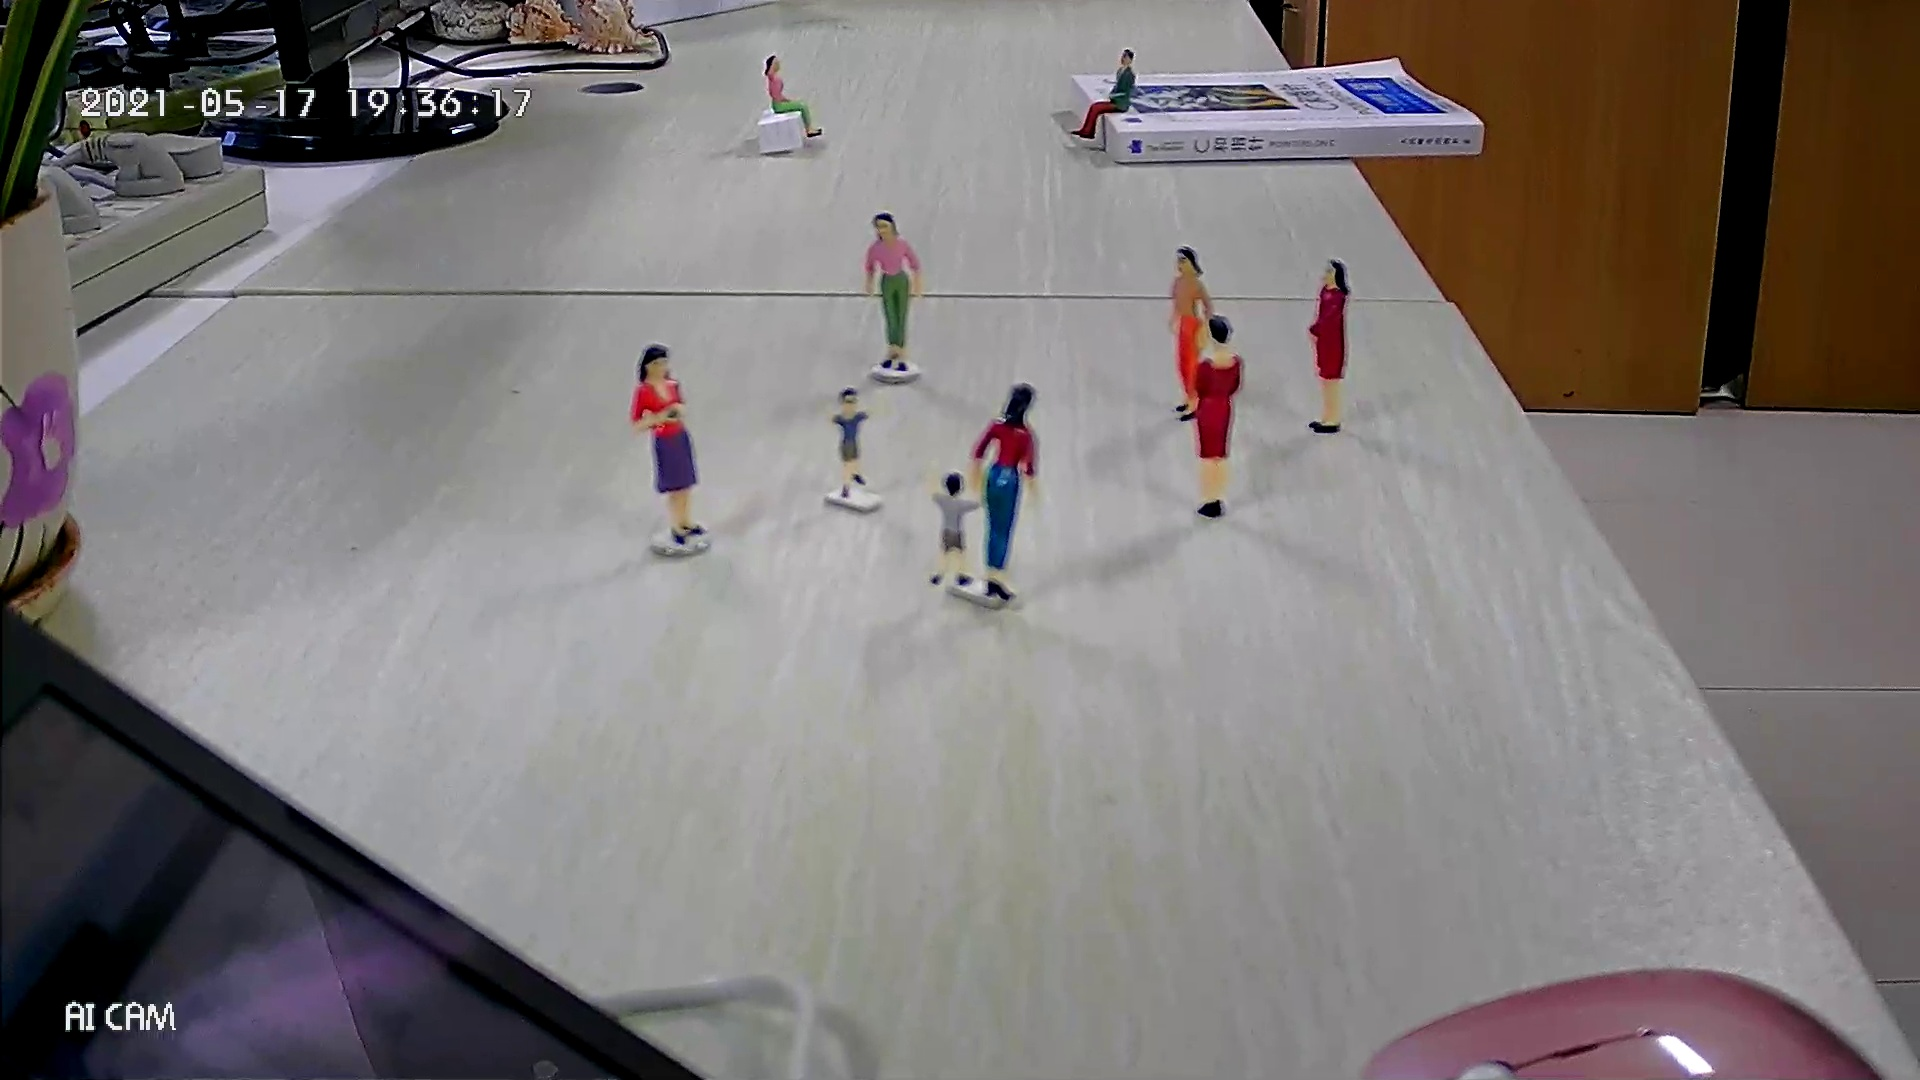person: (625, 341, 711, 546), (966, 378, 1041, 605), (1193, 315, 1245, 520), (861, 210, 923, 373), (1165, 243, 1216, 423), (919, 464, 986, 588), (1306, 259, 1352, 435), (815, 384, 885, 499), (1068, 46, 1138, 141), (761, 51, 824, 140)
